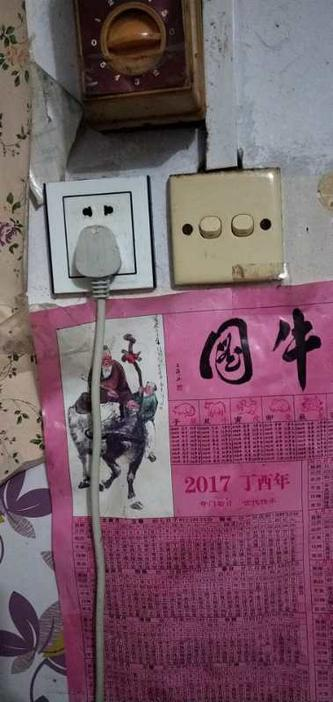switch: (192, 212, 225, 239), (230, 214, 262, 235)
